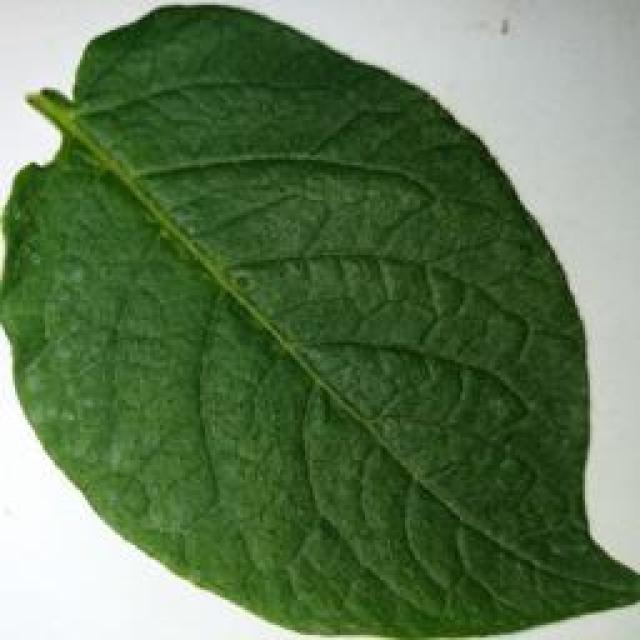Potato_Healthy: (1, 2, 628, 626)
